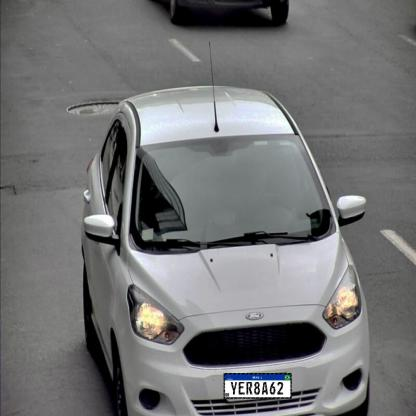PlacaM: (223, 373, 292, 399)
